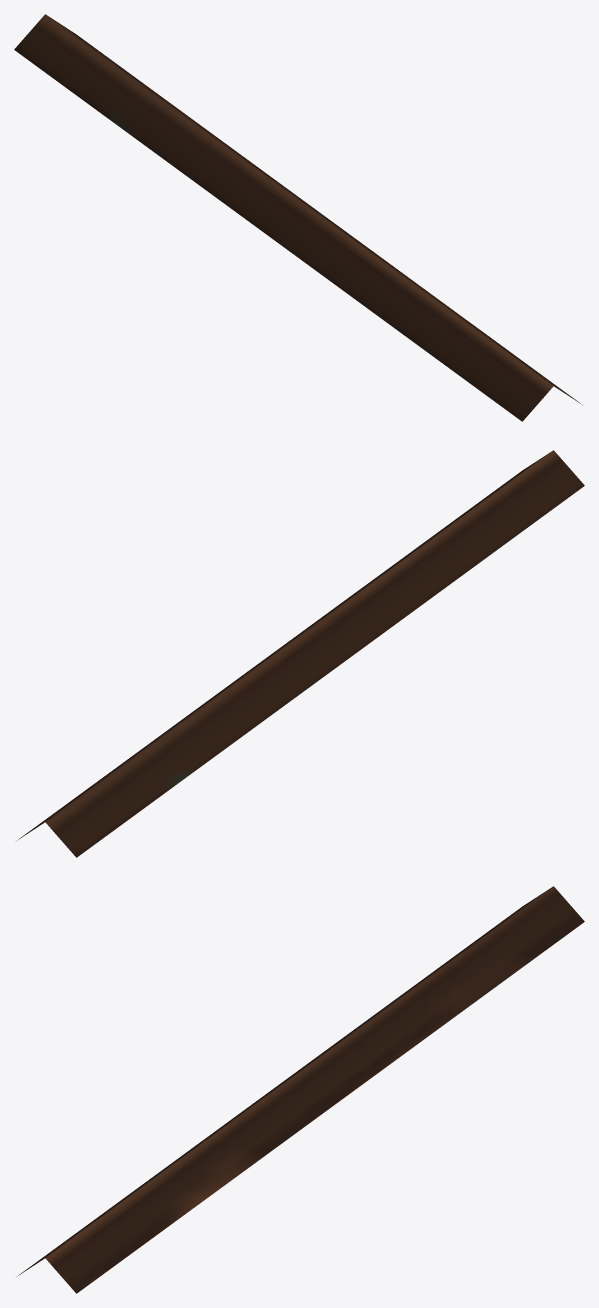
File: sn_jiguan_dici_003.FBX
The picture shows the model from 3 angles, top to bottom: view 1: azimuth 30°, elevation 25°; view 2: azimuth 150°, elevation 25°; view 3: azimuth 330°, elevation 25°; orthographic projection.
Parts seen in each view (by area): view 1: sn_jiguan_dici_003; view 2: sn_jiguan_dici_003; view 3: sn_jiguan_dici_003.
Part boxes in pixels (box(x1,y1,x2,y2)): sn_jiguan_dici_003: box(14, 14, 581, 421); sn_jiguan_dici_003: box(17, 450, 584, 857); sn_jiguan_dici_003: box(17, 886, 584, 1293).
Bounding box in the file's own units: 21.13 × 9.05 × 297.
